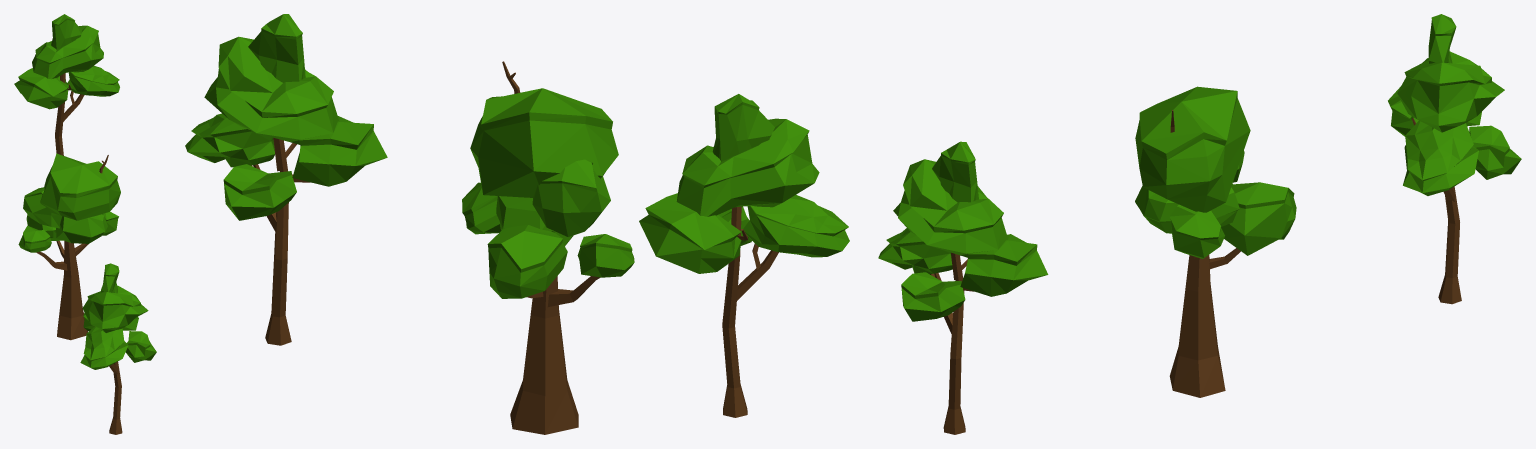
The model's file is trees.fbx.
3 renders of one model, left to right at view 1: azimuth 30°, elevation 25°; view 2: azimuth 150°, elevation 25°; view 3: azimuth 270°, elevation 25°, orthographic. The views are drawn at different scales.
Parts seen in each view (by area): view 1: Tree_61.003, Tree_62.002, Tree_62.005; view 2: Tree_61.003, Tree_62.005, Tree_62.002; view 3: Tree_61.003, Tree_62.005, Tree_62.002.
Boxes of the visible parts, x1=… form: Tree_61.003: x1=18, y1=153, x2=120, y2=340; Tree_62.002: x1=14, y1=14, x2=119, y2=155; Tree_62.005: x1=80, y1=263, x2=156, y2=434; Tree_61.003: x1=462, y1=61, x2=634, y2=434; Tree_62.005: x1=639, y1=94, x2=849, y2=417; Tree_62.002: x1=185, y1=14, x2=387, y2=345; Tree_61.003: x1=1135, y1=86, x2=1296, y2=397; Tree_62.005: x1=878, y1=141, x2=1048, y2=434; Tree_62.002: x1=1388, y1=14, x2=1521, y2=304.
Bounding box in the file's own units: 2106 × 3105 × 3680.
